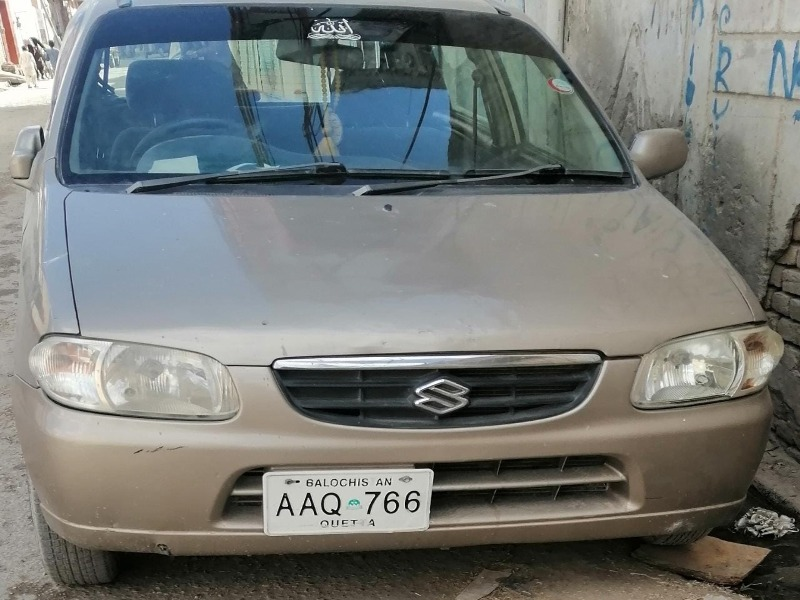License Plate: (256, 465, 439, 540)
